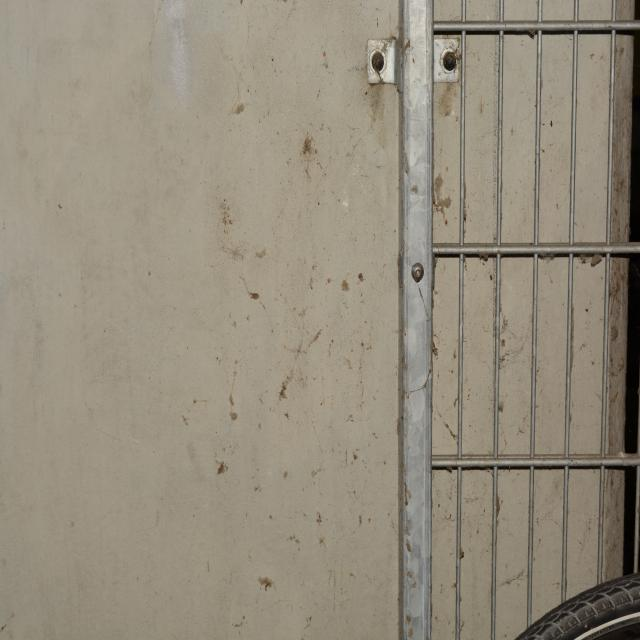corrosion: (442, 48, 457, 73), (370, 51, 386, 74), (411, 261, 424, 284)
